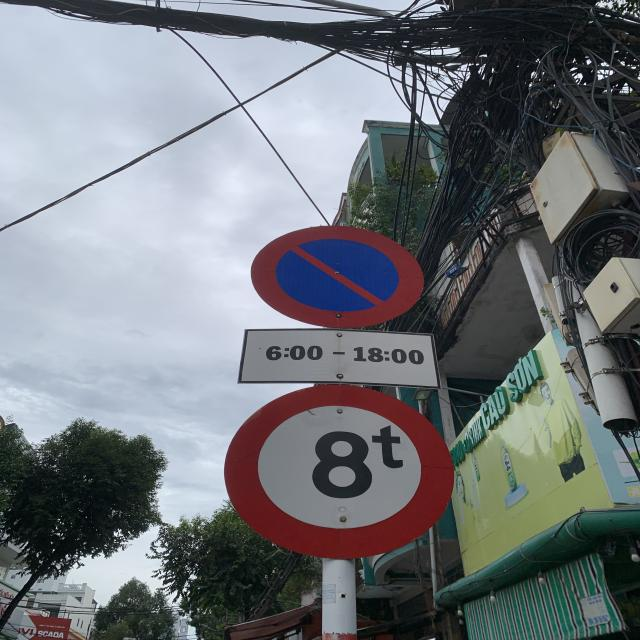Cam_Dau_Xe: (248, 222, 426, 330)
